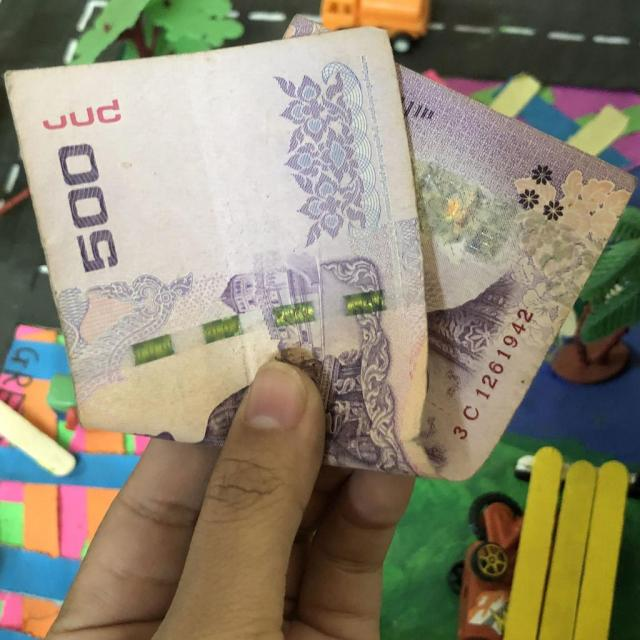THAI500: (6, 29, 635, 481)
